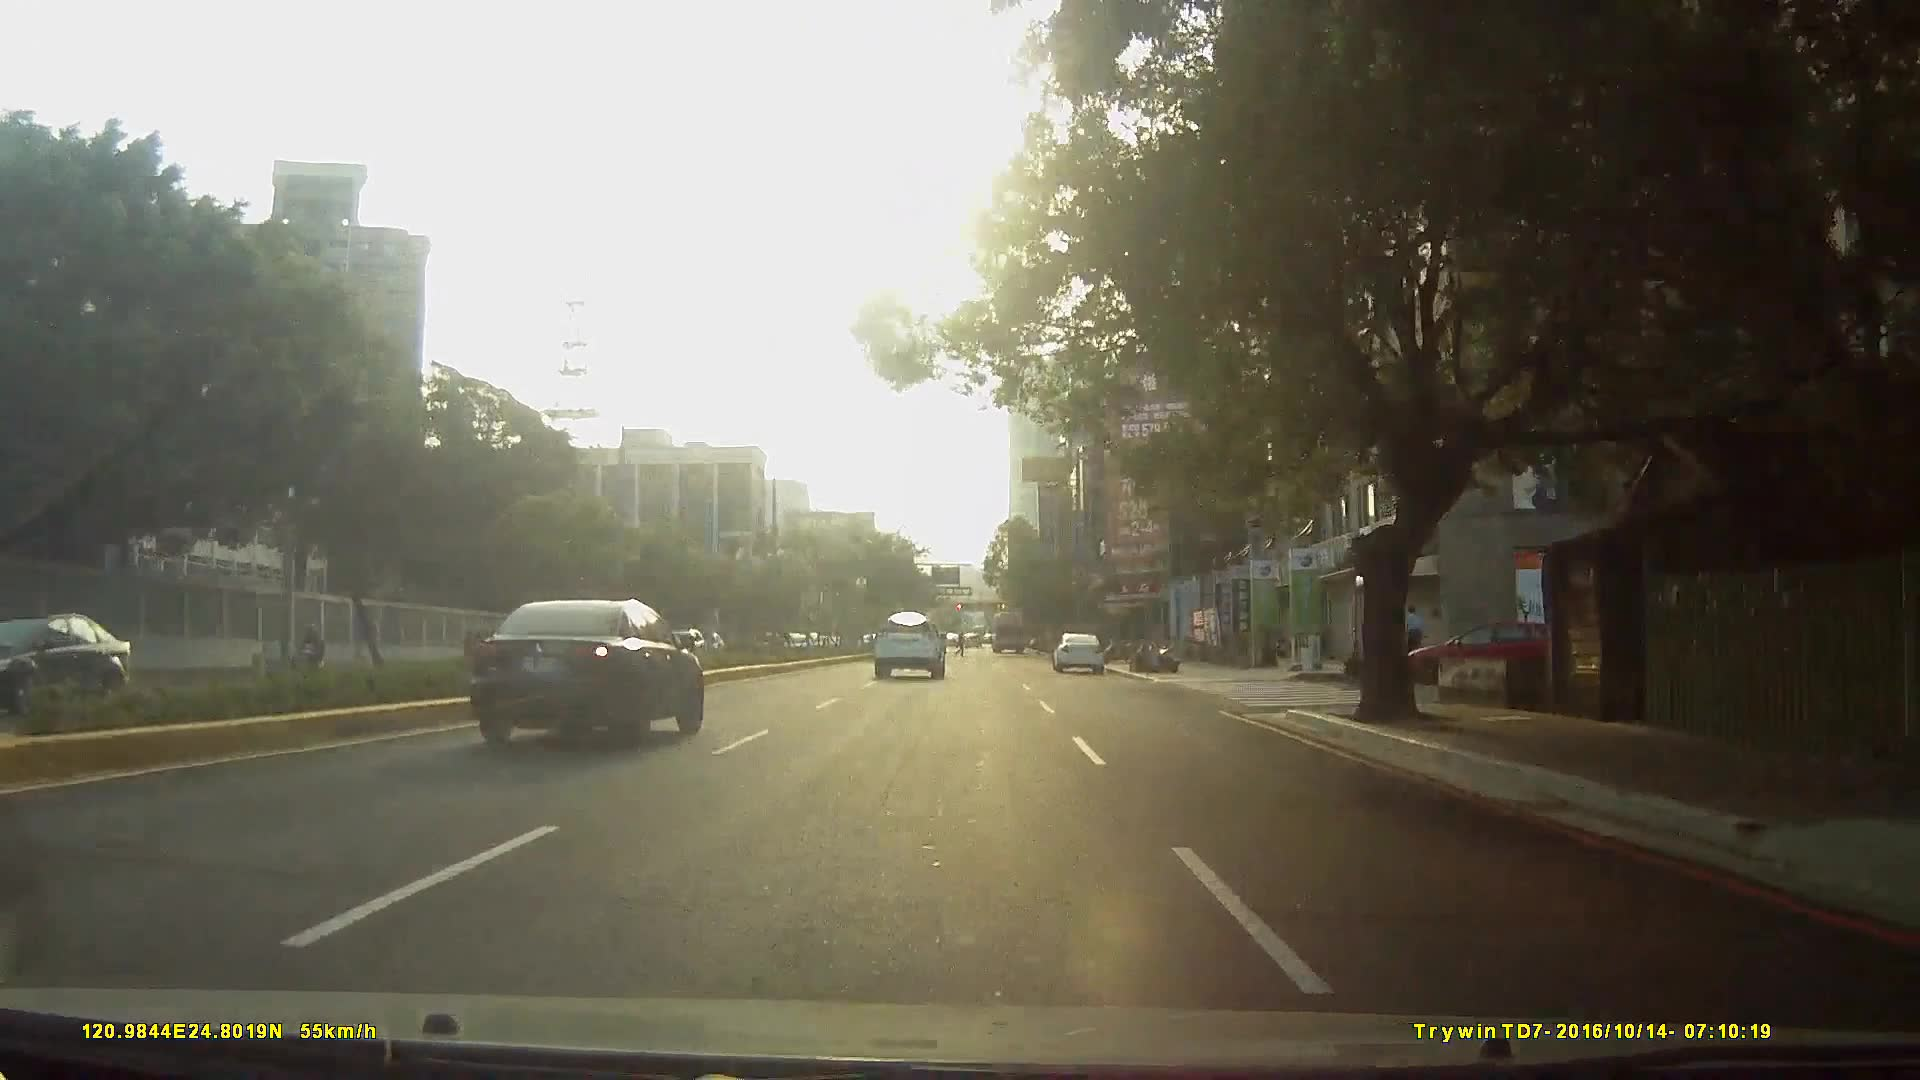pedestrian: (52, 610, 81, 670), (1406, 606, 1426, 667)
rider: (287, 626, 334, 680)
vehicle: (472, 594, 709, 746), (7, 603, 142, 717), (1397, 612, 1588, 686), (872, 607, 947, 676), (1052, 626, 1108, 668), (989, 605, 1030, 650)
